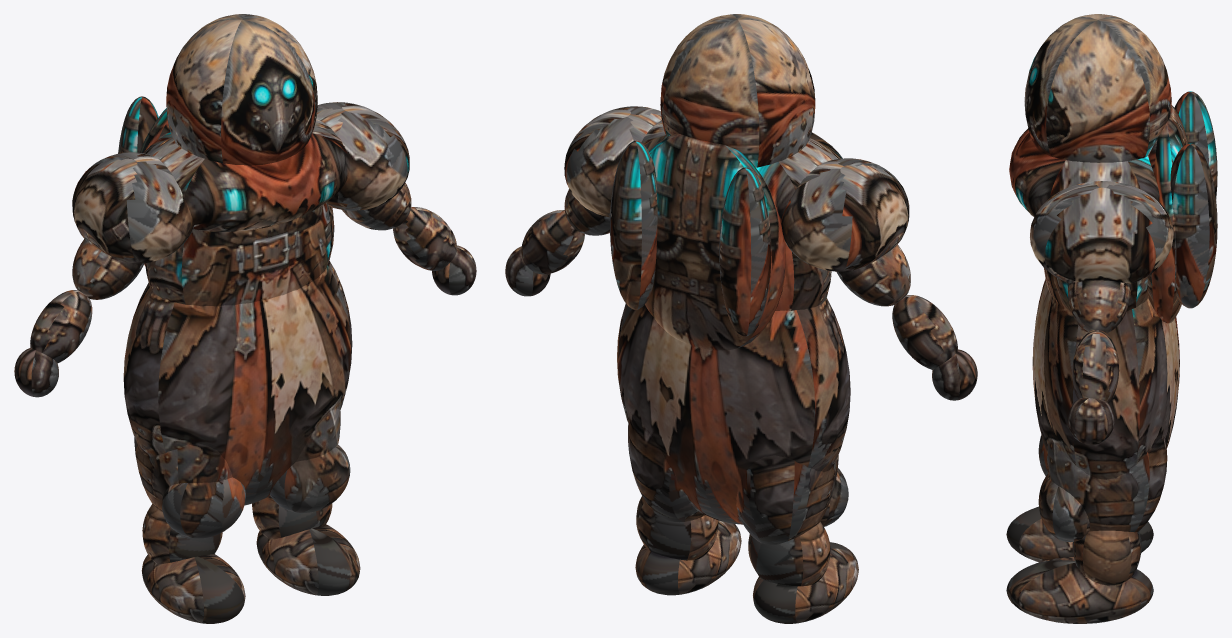
Rendered from ashland-survivor-r16.glb.
3 renders of one model, left to right at view 1: azimuth 30°, elevation 25°; view 2: azimuth 150°, elevation 25°; view 3: azimuth 270°, elevation 25°, orthographic. The views are drawn at different scales.
Parts seen in each view (by area): view 1: Hero | torn coat volume, Hero | hood and gas mask mass, Hero | armored torso, Hero | scarf and collar mass, Hero | shoulder pauldron L, Hero | shoulder pauldron R, Hero | scavenger boot L, Hero | scavenger boot R, Hero | knee plate L, Hero | knee plate R, Hero | thigh L, Hero | armored forearm L (+9 smaller); view 2: Hero | torn coat volume, Hero | hood and gas mask mass, Hero | rear pack volume, Hero | shoulder pauldron L, Hero | reactor tank L, Hero | thigh L, Hero | reactor tank R, Hero | shoulder pauldron R, Hero | scavenger boot L, Hero | scavenger boot R, Hero | thigh R, Hero | wrapped shin L (+10 smaller); view 3: Hero | hood and gas mask mass, Hero | torn coat volume, Hero | shoulder pauldron R, Hero | scavenger boot R, Hero | thigh R, Hero | reactor tank R, Hero | scarf and collar mass, Hero | rear pack volume, Hero | wrapped shin R, Hero | armored forearm R, Hero | upper sleeve R, Hero | scavenger boot L (+4 smaller).
Part boxes in pixels (box(x1,y1,x2,y2)): Hero | torn coat volume: box(123, 261, 352, 505); Hero | hood and gas mask mass: box(166, 14, 317, 165); Hero | armored torso: box(145, 202, 334, 306); Hero | scarf and collar mass: box(144, 118, 349, 231); Hero | shoulder pauldron L: box(72, 152, 193, 263); Hero | shoulder pauldron R: box(316, 102, 409, 210); Hero | scavenger boot L: box(141, 554, 245, 623); Hero | scavenger boot R: box(256, 524, 360, 595); Hero | knee plate L: box(161, 477, 245, 538); Hero | knee plate R: box(270, 445, 350, 512); Hero | thigh L: box(134, 437, 232, 511); Hero | armored forearm L: box(30, 290, 92, 363); Hero | torn coat volume: box(617, 298, 850, 524); Hero | hood and gas mask mass: box(660, 14, 815, 167); Hero | rear pack volume: box(645, 134, 785, 350); Hero | shoulder pauldron L: box(781, 158, 909, 271); Hero | reactor tank L: box(719, 167, 771, 336); Hero | thigh L: box(736, 455, 838, 544); Hero | reactor tank R: box(610, 140, 657, 309); Hero | shoulder pauldron R: box(564, 106, 661, 217); Hero | scavenger boot L: box(753, 542, 858, 623); Hero | scavenger boot R: box(635, 520, 741, 595); Hero | thigh R: box(628, 420, 705, 522); Hero | wrapped shin L: box(748, 521, 830, 586); Hero | hood and gas mask mass: box(1024, 14, 1171, 162); Hero | torn coat volume: box(1032, 279, 1179, 479); Hero | shoulder pauldron R: box(1030, 181, 1173, 284); Hero | scavenger boot R: box(1006, 557, 1153, 623); Hero | thigh R: box(1047, 437, 1167, 532); Hero | reactor tank R: box(1170, 143, 1217, 308); Hero | scarf and collar mass: box(1009, 128, 1159, 216); Hero | rear pack volume: box(1147, 105, 1187, 323); Hero | wrapped shin R: box(1072, 530, 1141, 585); Hero | armored forearm R: box(1072, 330, 1119, 403); Hero | upper sleeve R: box(1068, 280, 1130, 333); Hero | scavenger boot L: box(1006, 506, 1153, 562).
Size of the model in its own units: 1.75 by 2.09 by 0.702.
4 materials, 4 textured.
